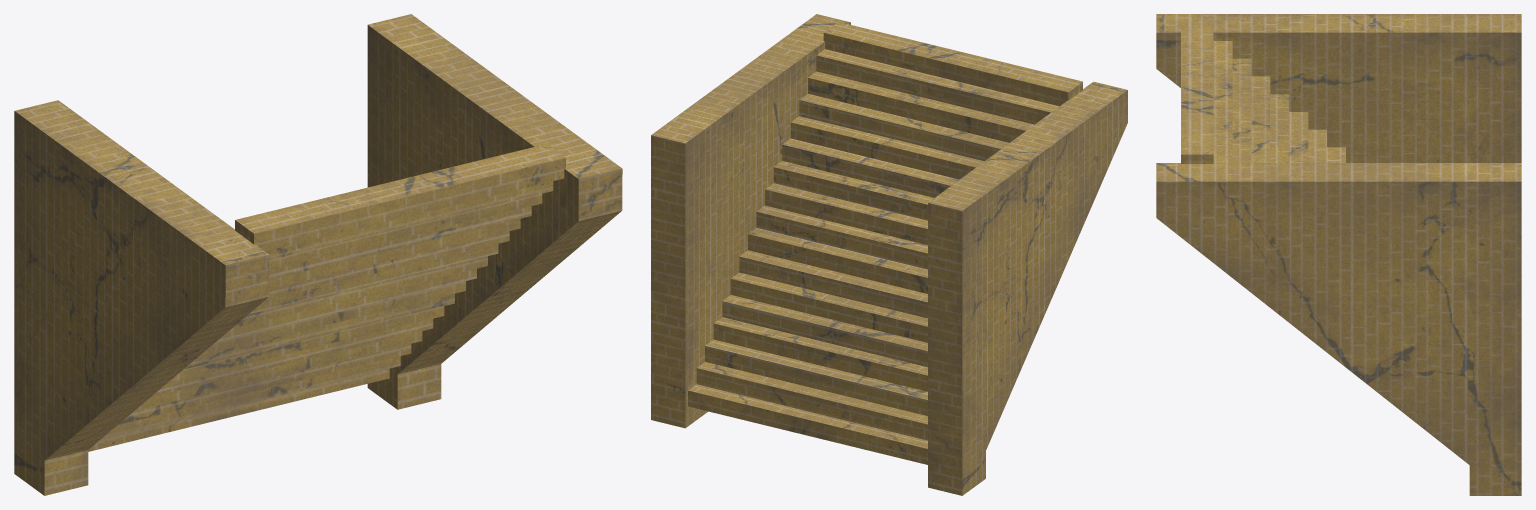
File: stair.fbx
3 renders of one model, left to right at view 1: azimuth 30°, elevation 25°; view 2: azimuth 150°, elevation 25°; view 3: azimuth 270°, elevation 25°, orthographic. The views are drawn at different scales.
Parts seen in each view (by area): view 1: stair; view 2: stair; view 3: stair.
Boxes of the visible parts, x1,y1,x2,y2 form: stair: (14,14,622,495); stair: (651,14,1127,495); stair: (1156,14,1521,495).
Size of the model in its own units: 33.9 by 30.52 by 31.23.
